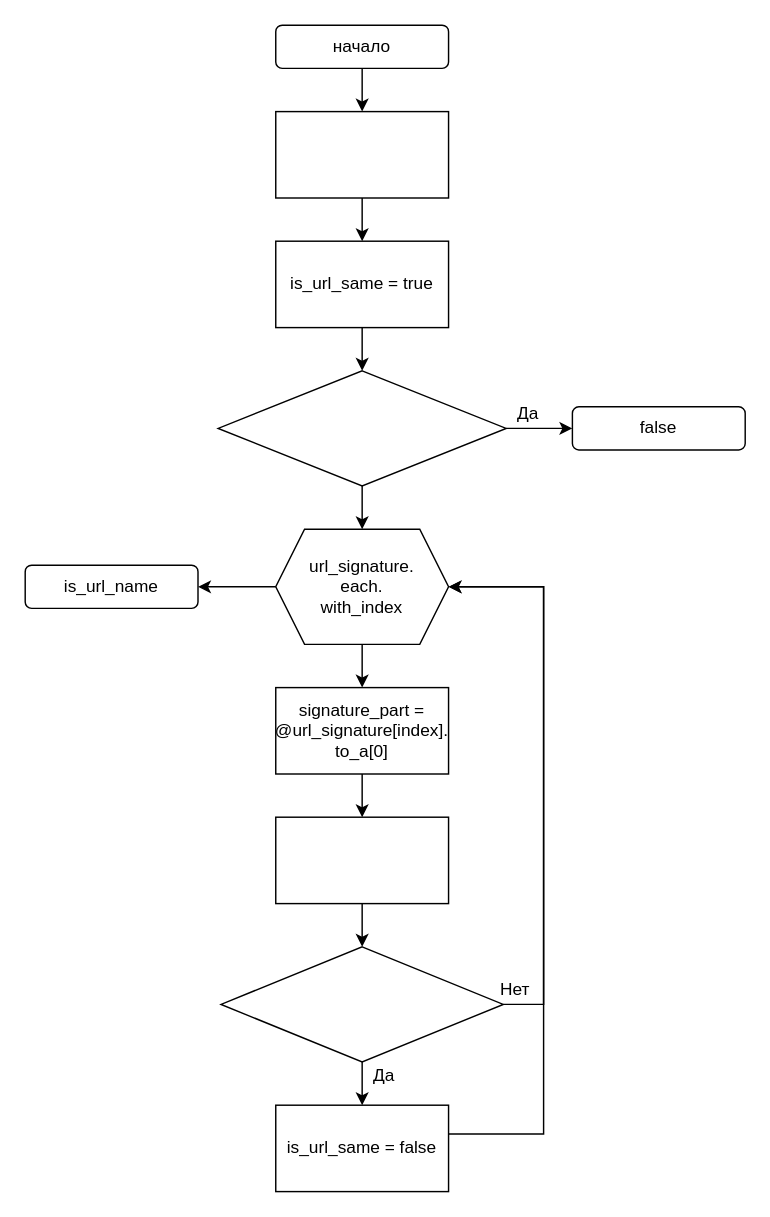
This 770x1217 diagram has some shape labels left out. The shapes that lost their labels are listed below. From the top down, each one's centre as x and y in pixels, then its label:
point (361, 154): url_signature = make_url_signature (url)
point (361, 427): url_signature.length != @url_signature.length
point (361, 860): url_signature_part = url_signature_part. to_a[0]
point (361, 1003): url_signature_part[0] != signature_part[0] && url_signature_part[1] == "link"
